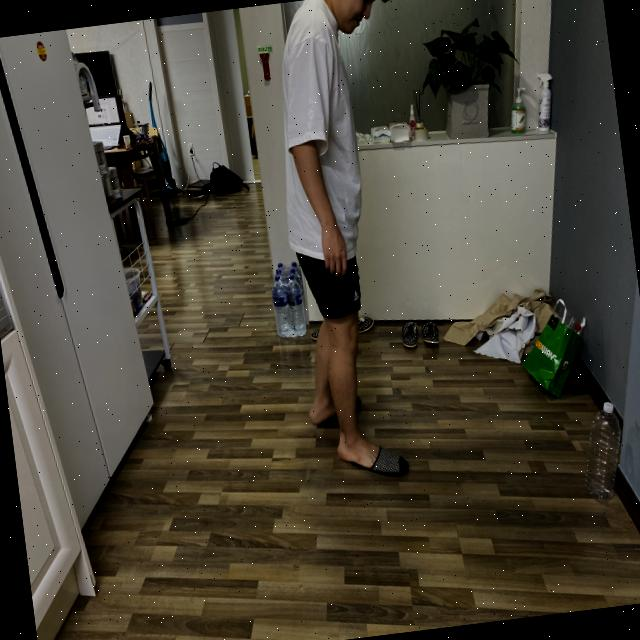no-boots: (333, 430, 422, 500)
